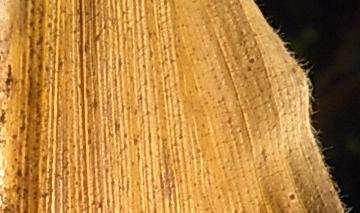tarspot: (4, 63, 15, 94), (18, 108, 27, 132), (258, 145, 269, 164), (1, 106, 10, 126), (94, 28, 105, 42), (26, 33, 35, 49), (27, 48, 36, 63), (35, 5, 46, 17), (35, 32, 43, 46), (246, 56, 255, 65), (36, 16, 44, 26), (46, 43, 54, 53), (28, 5, 34, 18), (226, 114, 233, 125), (16, 167, 23, 178), (288, 192, 296, 201), (96, 201, 104, 210), (85, 136, 92, 146), (27, 19, 35, 27), (46, 21, 54, 29), (86, 127, 93, 136), (10, 133, 18, 140), (1, 138, 8, 146), (140, 62, 147, 70), (102, 20, 107, 31), (246, 65, 253, 72), (30, 1, 37, 6), (1, 54, 3, 63)
